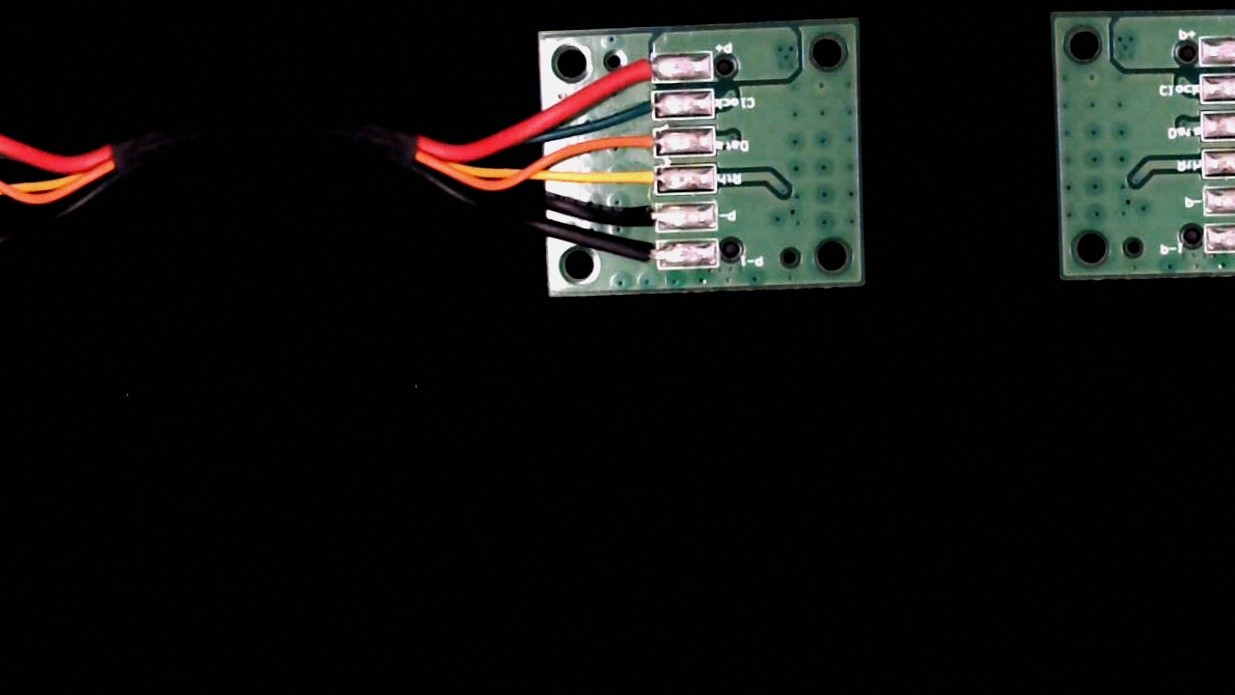Black: (602, 198, 675, 236)
Black1: (617, 239, 676, 271)
Green: (610, 89, 670, 127)
Orange: (612, 126, 671, 158)
Red: (609, 53, 669, 87)
Yellow: (613, 162, 672, 197)
